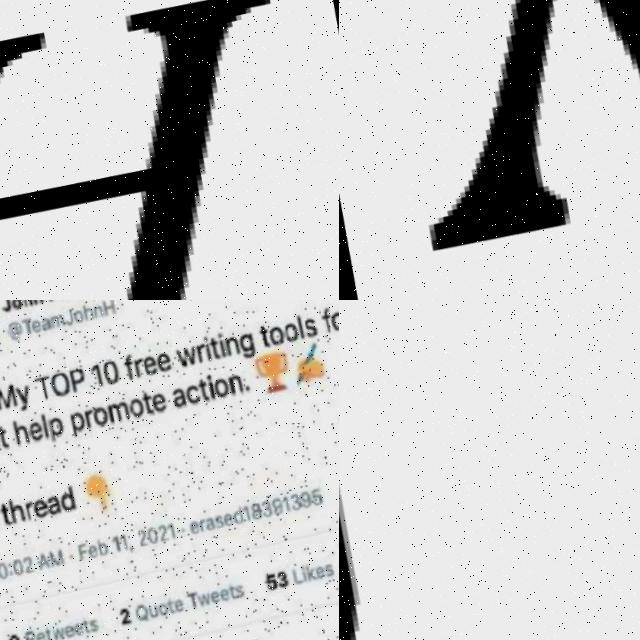0: (101, 357, 124, 385), (14, 556, 28, 574), (149, 524, 162, 542), (0, 560, 12, 579)
1: (90, 361, 106, 388), (168, 519, 180, 540), (121, 530, 133, 549), (113, 533, 123, 551), (283, 492, 293, 510), (244, 502, 254, 519), (0, 564, 0, 579)
2: (24, 554, 38, 572), (138, 527, 152, 545), (159, 521, 172, 540), (121, 605, 134, 623)
3: (262, 496, 276, 515), (278, 567, 292, 586), (291, 490, 304, 508)
5: (312, 485, 326, 503), (268, 570, 282, 588)
8: (252, 499, 266, 517)
9: (301, 487, 315, 506), (272, 494, 286, 512), (11, 632, 25, 640)
H: (0, 0, 266, 300)
J: (339, 300, 461, 640)
N: (343, 0, 640, 283)
